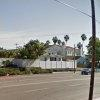Palm tree: (40, 27, 91, 47)
